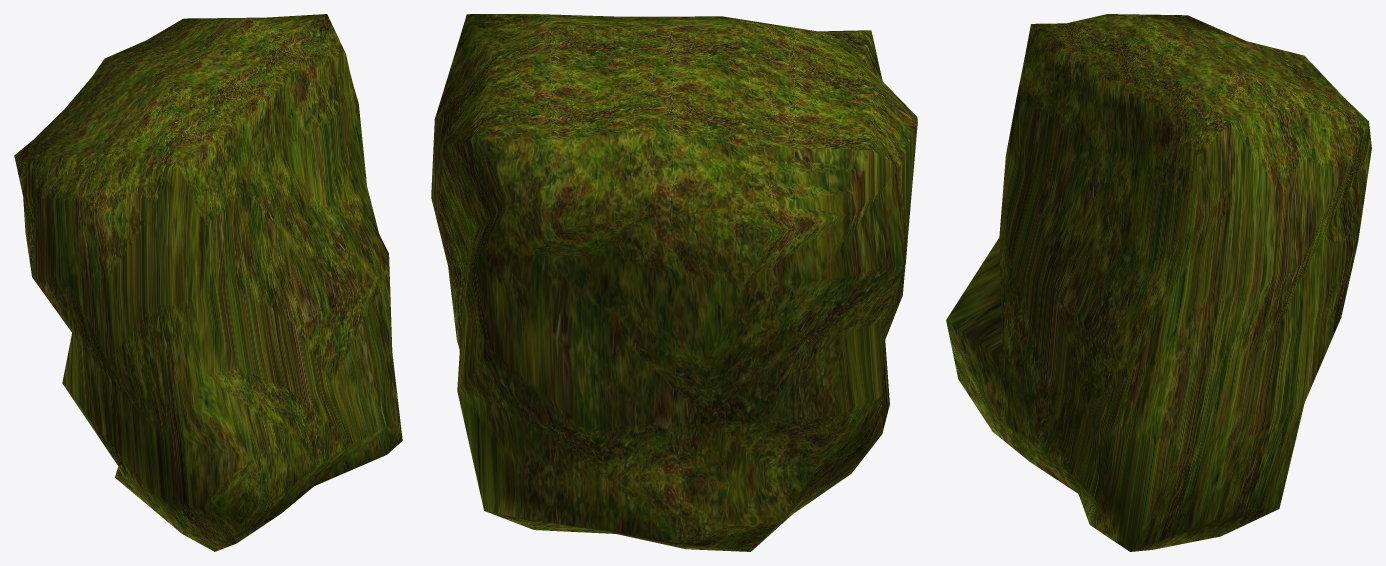
File: TROLLHOLE02_ZRM_PSURF104.fbx
3 views of the same model, side by side, from view 1: azimuth 30°, elevation 25°; view 2: azimuth 150°, elevation 25°; view 3: azimuth 270°, elevation 25° (orthographic). The views are drawn at different scales.
Visible parts, largest first — view 1: TROLLHOLE02_ZRM_PSURF104; view 2: TROLLHOLE02_ZRM_PSURF104; view 3: TROLLHOLE02_ZRM_PSURF104.
Boxes of the visible parts, bbox=[...] form: TROLLHOLE02_ZRM_PSURF104: bbox=[14, 14, 402, 551]; TROLLHOLE02_ZRM_PSURF104: bbox=[431, 14, 917, 551]; TROLLHOLE02_ZRM_PSURF104: bbox=[946, 14, 1371, 551].
Bounding box in the file's own units: 109316 × 127233 × 104585.
Materials: 1 (1 with a texture image).
